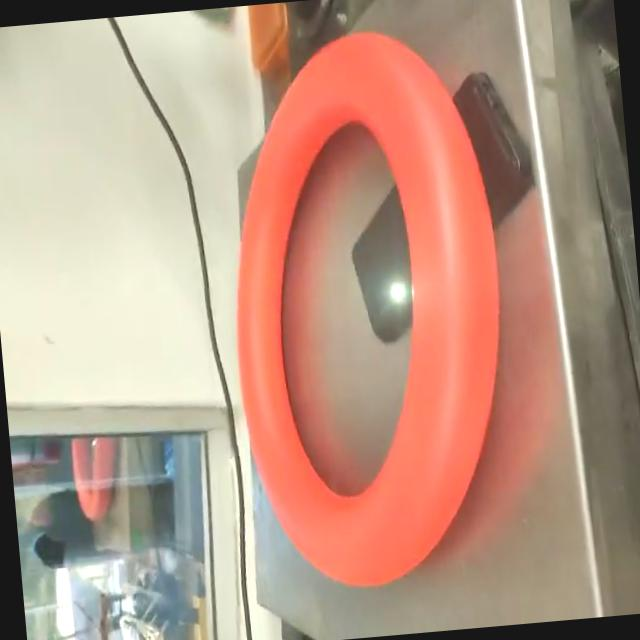note: (208, 21, 526, 598)
